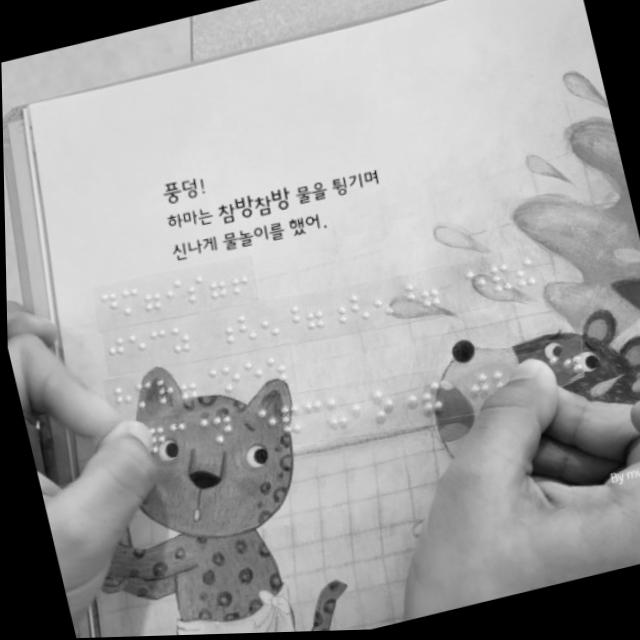braiile: (128, 372, 175, 415), (342, 390, 374, 430), (411, 278, 443, 317), (482, 263, 514, 302), (365, 386, 397, 425), (229, 307, 259, 348), (275, 299, 305, 340), (342, 290, 372, 331), (390, 384, 420, 425), (296, 399, 328, 437), (413, 381, 444, 420), (252, 304, 282, 344), (365, 287, 395, 327), (459, 266, 489, 306), (298, 296, 327, 337), (206, 312, 236, 351), (388, 280, 418, 319), (179, 268, 208, 308), (143, 321, 172, 360), (170, 369, 199, 408), (115, 283, 144, 321), (157, 274, 186, 312), (260, 353, 289, 391), (321, 395, 350, 433), (202, 263, 229, 303), (223, 258, 250, 298), (509, 258, 538, 295), (274, 402, 303, 439), (95, 288, 123, 326), (107, 380, 135, 418), (216, 361, 244, 399), (322, 294, 349, 333), (193, 366, 222, 402), (207, 412, 236, 448), (137, 279, 165, 316), (252, 406, 280, 443), (121, 327, 148, 365), (161, 418, 190, 453), (164, 318, 191, 355), (185, 416, 212, 453), (100, 333, 126, 371), (239, 357, 265, 393)
